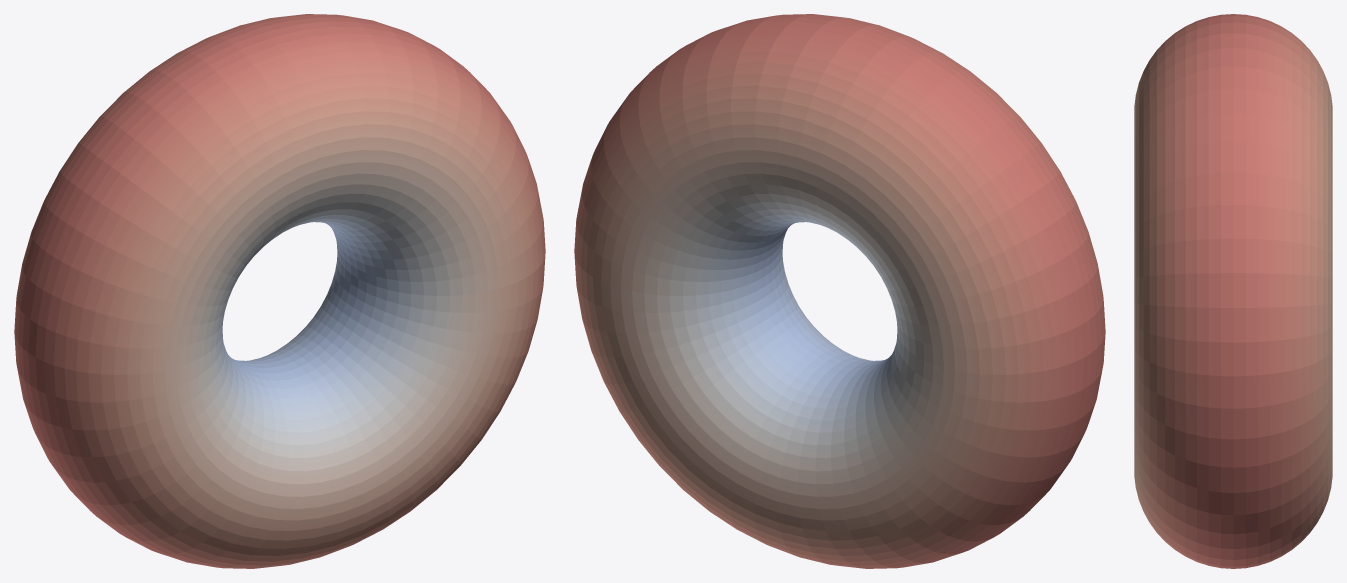
The picture shows the model from 3 angles, left to right: view 1: azimuth 30°, elevation 25°; view 2: azimuth 150°, elevation 25°; view 3: azimuth 270°, elevation 25°; orthographic projection. The views are drawn at different scales.
Visible parts, largest first — view 1: world; view 2: world; view 3: world.
Part boxes in pixels (bbox=[...]): world: bbox=[14, 14, 545, 568]; world: bbox=[574, 14, 1105, 568]; world: bbox=[1134, 14, 1332, 568].
Size of the model in its own units: 24.93 by 24.88 by 8.92.
